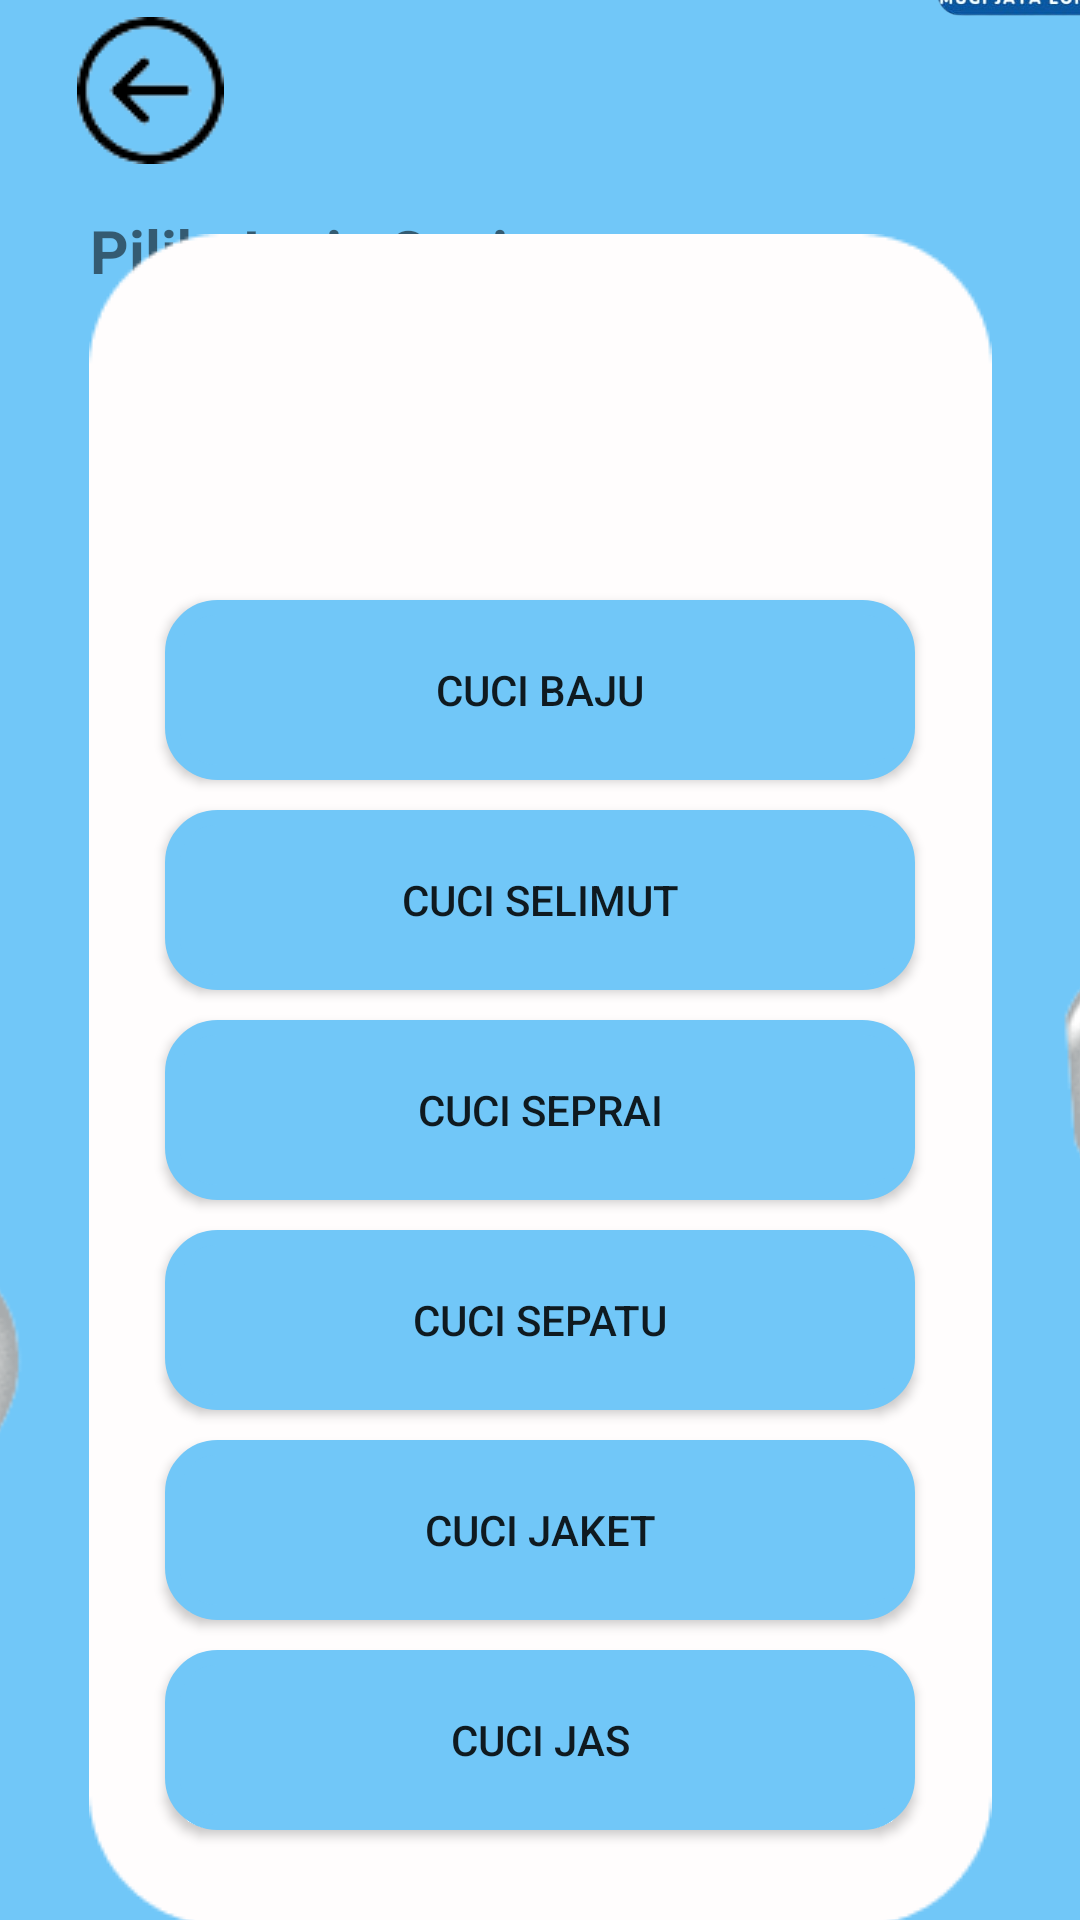

Screen size 1080*1920. Icon name, then its center in pixels as point (x, y):
iconkembali: point (150, 90)
